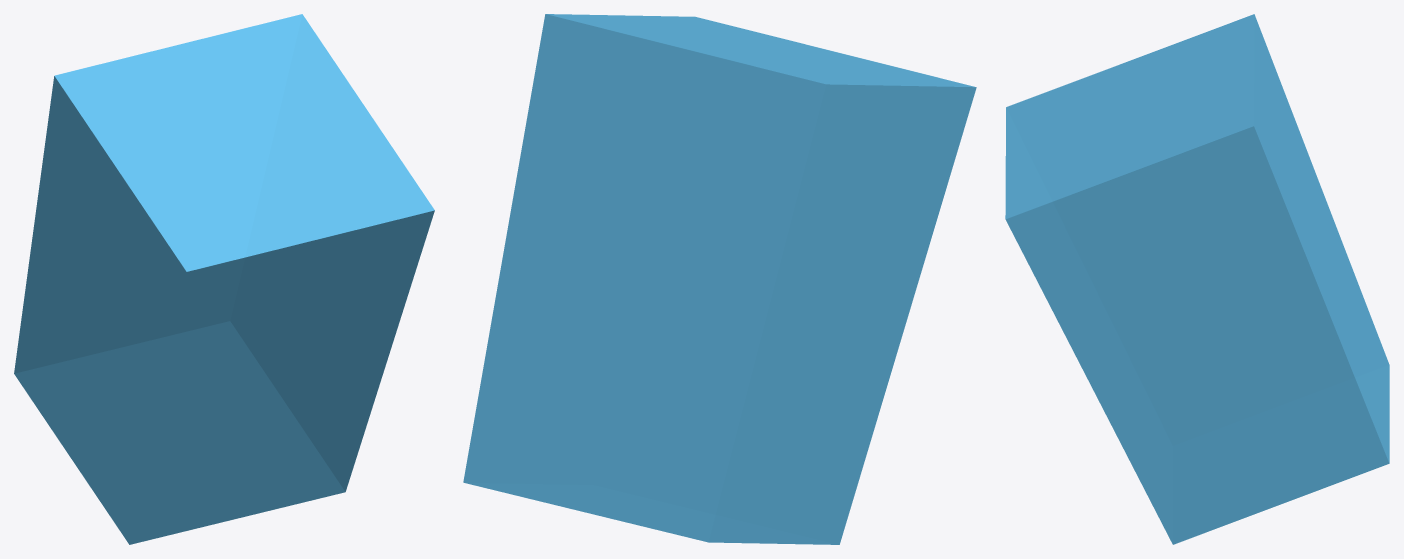
The model's file is Event_420094457_HBrechit_2.fbx.
The picture shows the model from 3 angles, left to right: view 1: azimuth 30°, elevation 25°; view 2: azimuth 150°, elevation 25°; view 3: azimuth 270°, elevation 25°; orthographic projection. The views are drawn at different scales.
Parts seen in each view (by area): view 1: Model; view 2: Model; view 3: Model.
Part boxes in pixels (<box>): Model: <box>14,14,434,544</box>; Model: <box>463,14,976,544</box>; Model: <box>1005,14,1389,544</box>.
Size of the model in its own units: 0.46 by 0.7919 by 0.6581.
